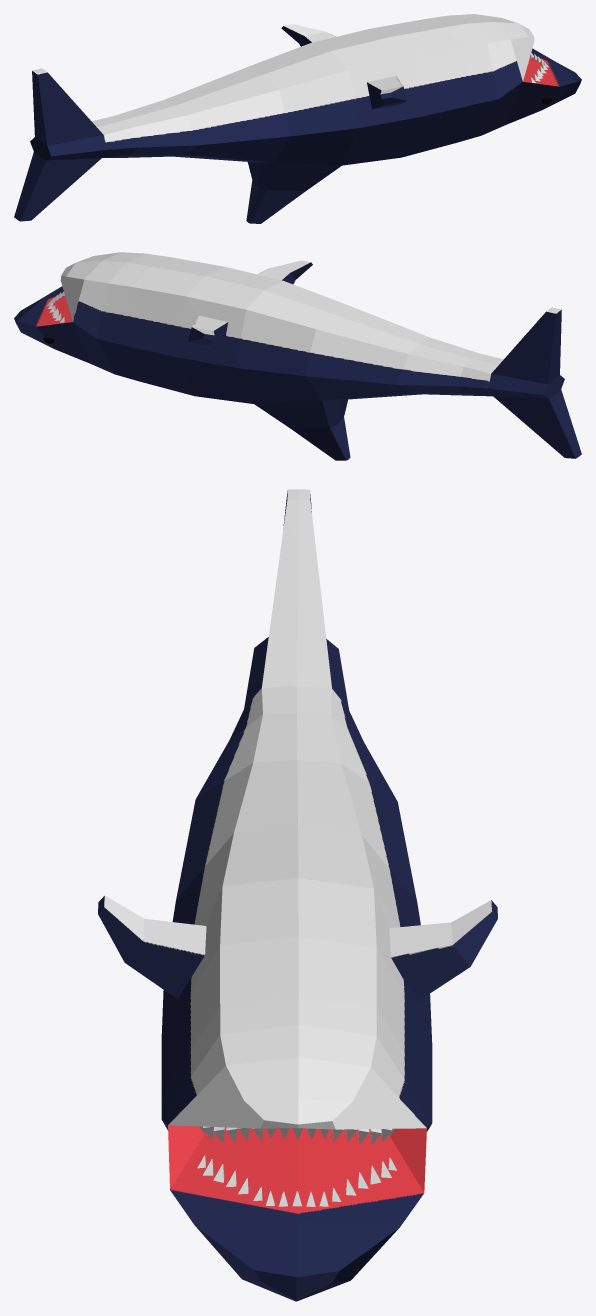
File: shark1.glb
The picture shows the model from 3 angles, top to bottom: view 1: azimuth 30°, elevation 25°; view 2: azimuth 150°, elevation 25°; view 3: azimuth 270°, elevation 25°; orthographic projection. The views are drawn at different scales.
Parts seen in each view (by area): view 1: Object_2; view 2: Object_2; view 3: Object_2.
Boxes of the visible parts, x1=… form: Object_2: x1=14, y1=14, x2=581, y2=223; Object_2: x1=14, y1=252, x2=581, y2=460; Object_2: x1=98, y1=489, x2=497, y2=1301.
Bounding box in the file's own units: 3.81 × 1.33 × 1.18.
Materials: 1 (1 with a texture image).
